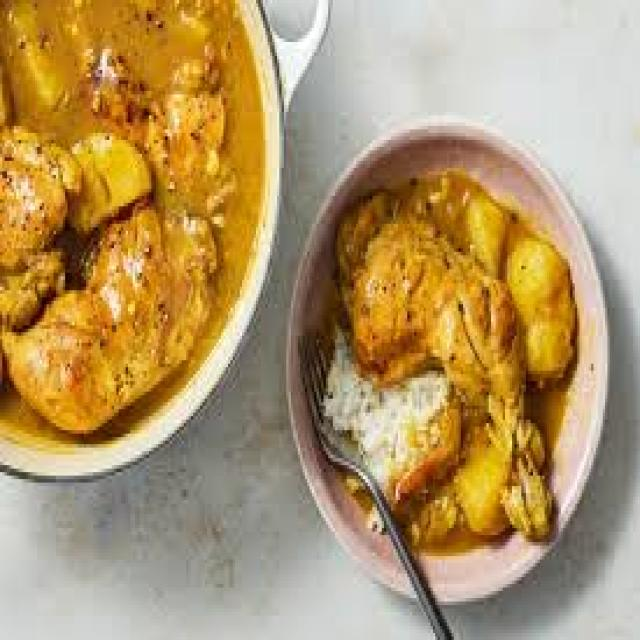Frango: (2, 0, 270, 458), (433, 144, 582, 574), (335, 185, 603, 392)
